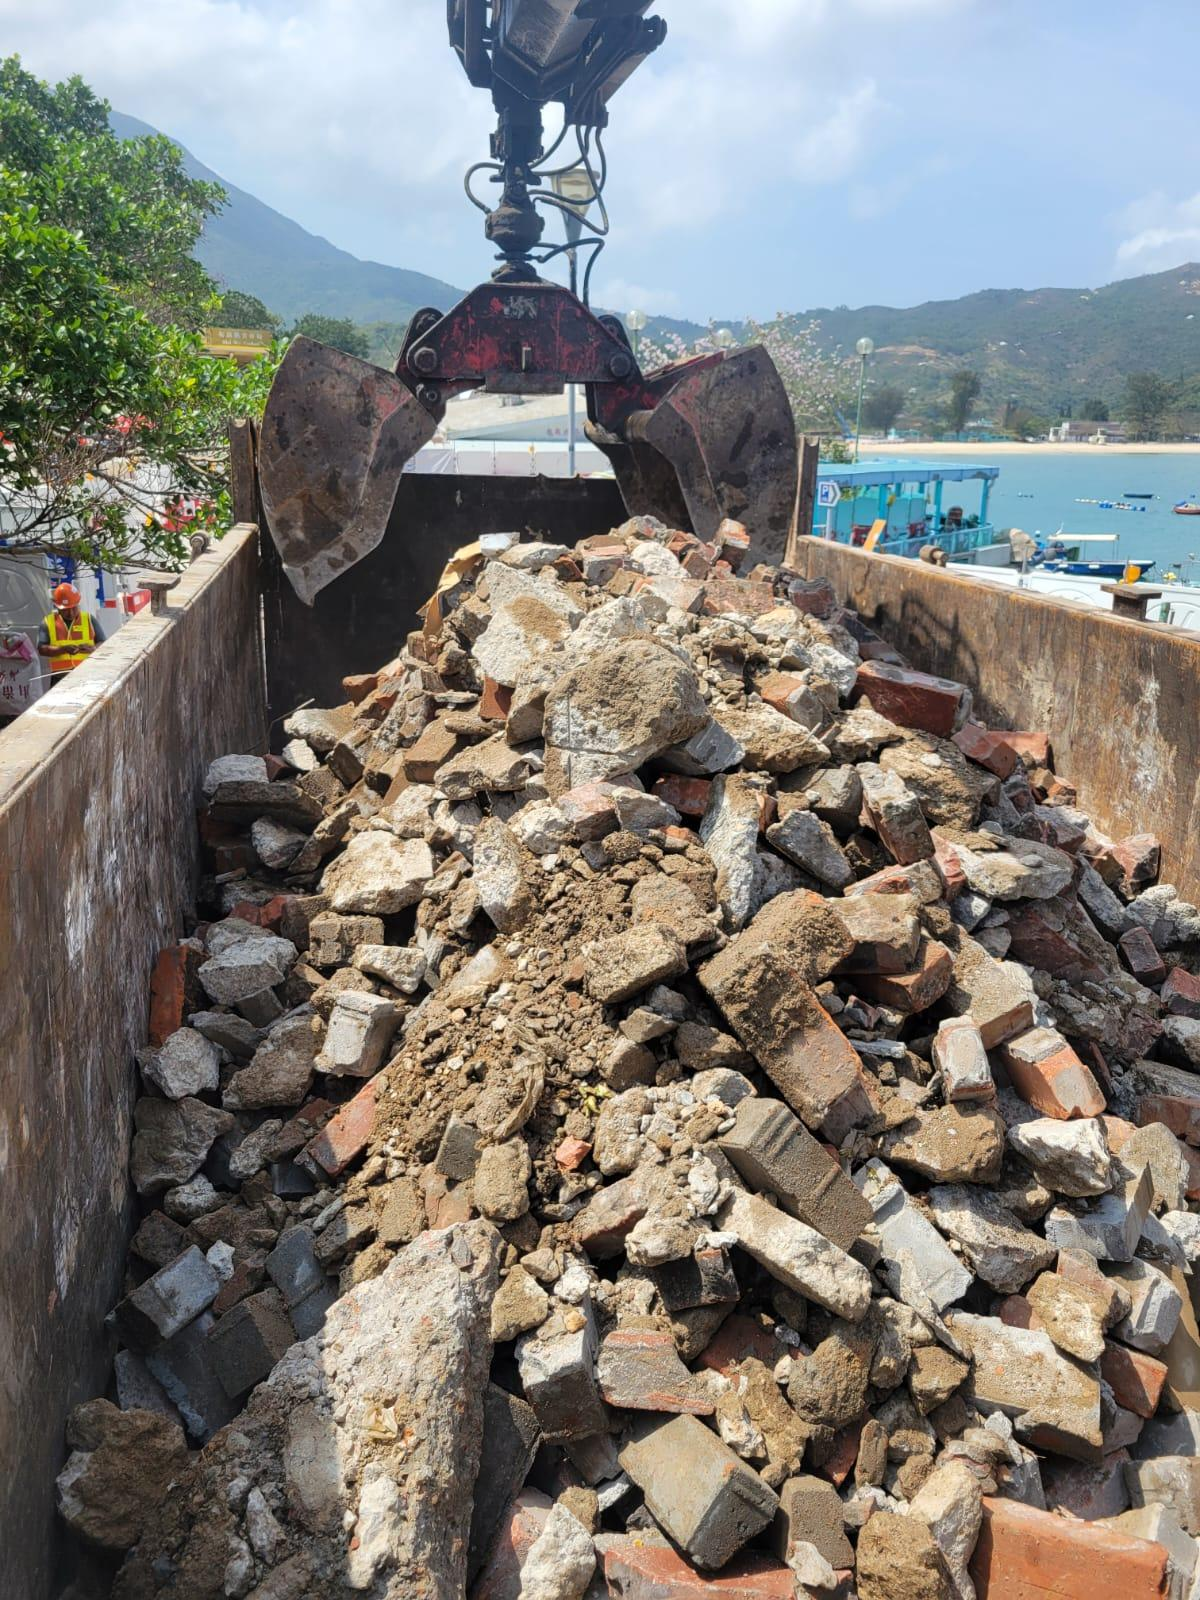dry: (112, 540, 1195, 1590)
